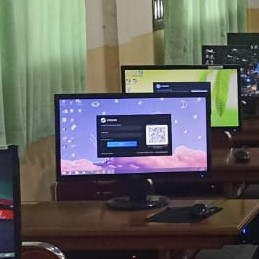monitor: (54, 92, 212, 184), (121, 65, 243, 136), (0, 145, 66, 257), (201, 36, 259, 147)
